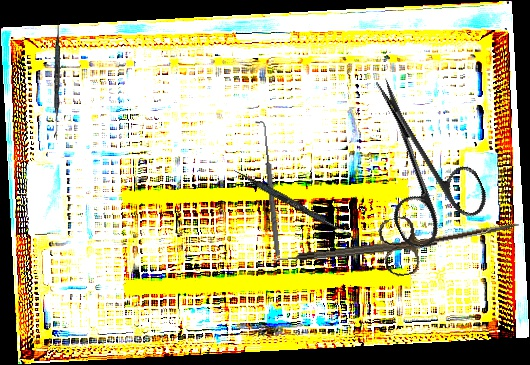Hook Surgical: (271, 237, 438, 265), (254, 118, 283, 259)
Iris Scissors: (335, 59, 496, 254), (376, 193, 525, 279)
Spatula Surgical: (231, 168, 357, 240), (54, 21, 60, 138)
